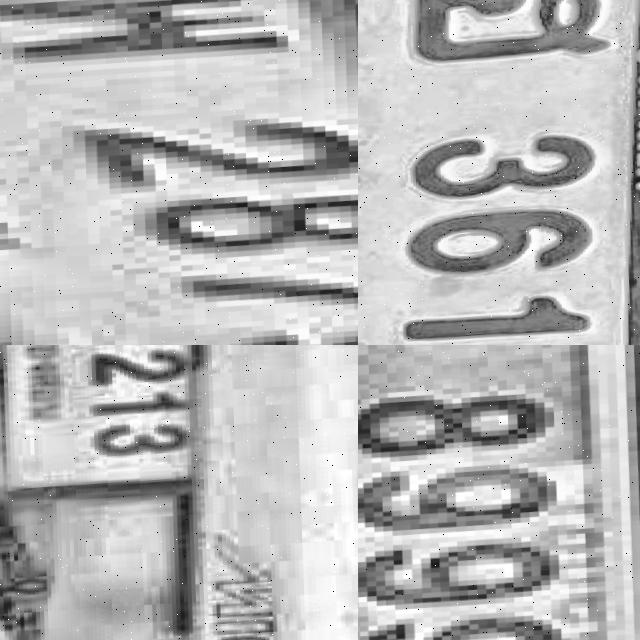license-plate: (0, 0, 358, 345), (358, 0, 640, 345), (358, 345, 640, 640), (0, 345, 213, 513)
